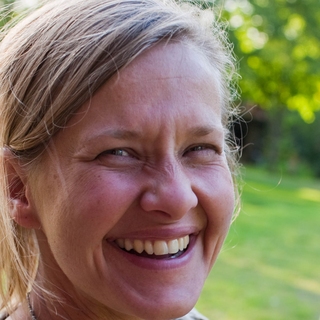eye: (93, 142, 143, 166), (177, 136, 226, 159)
